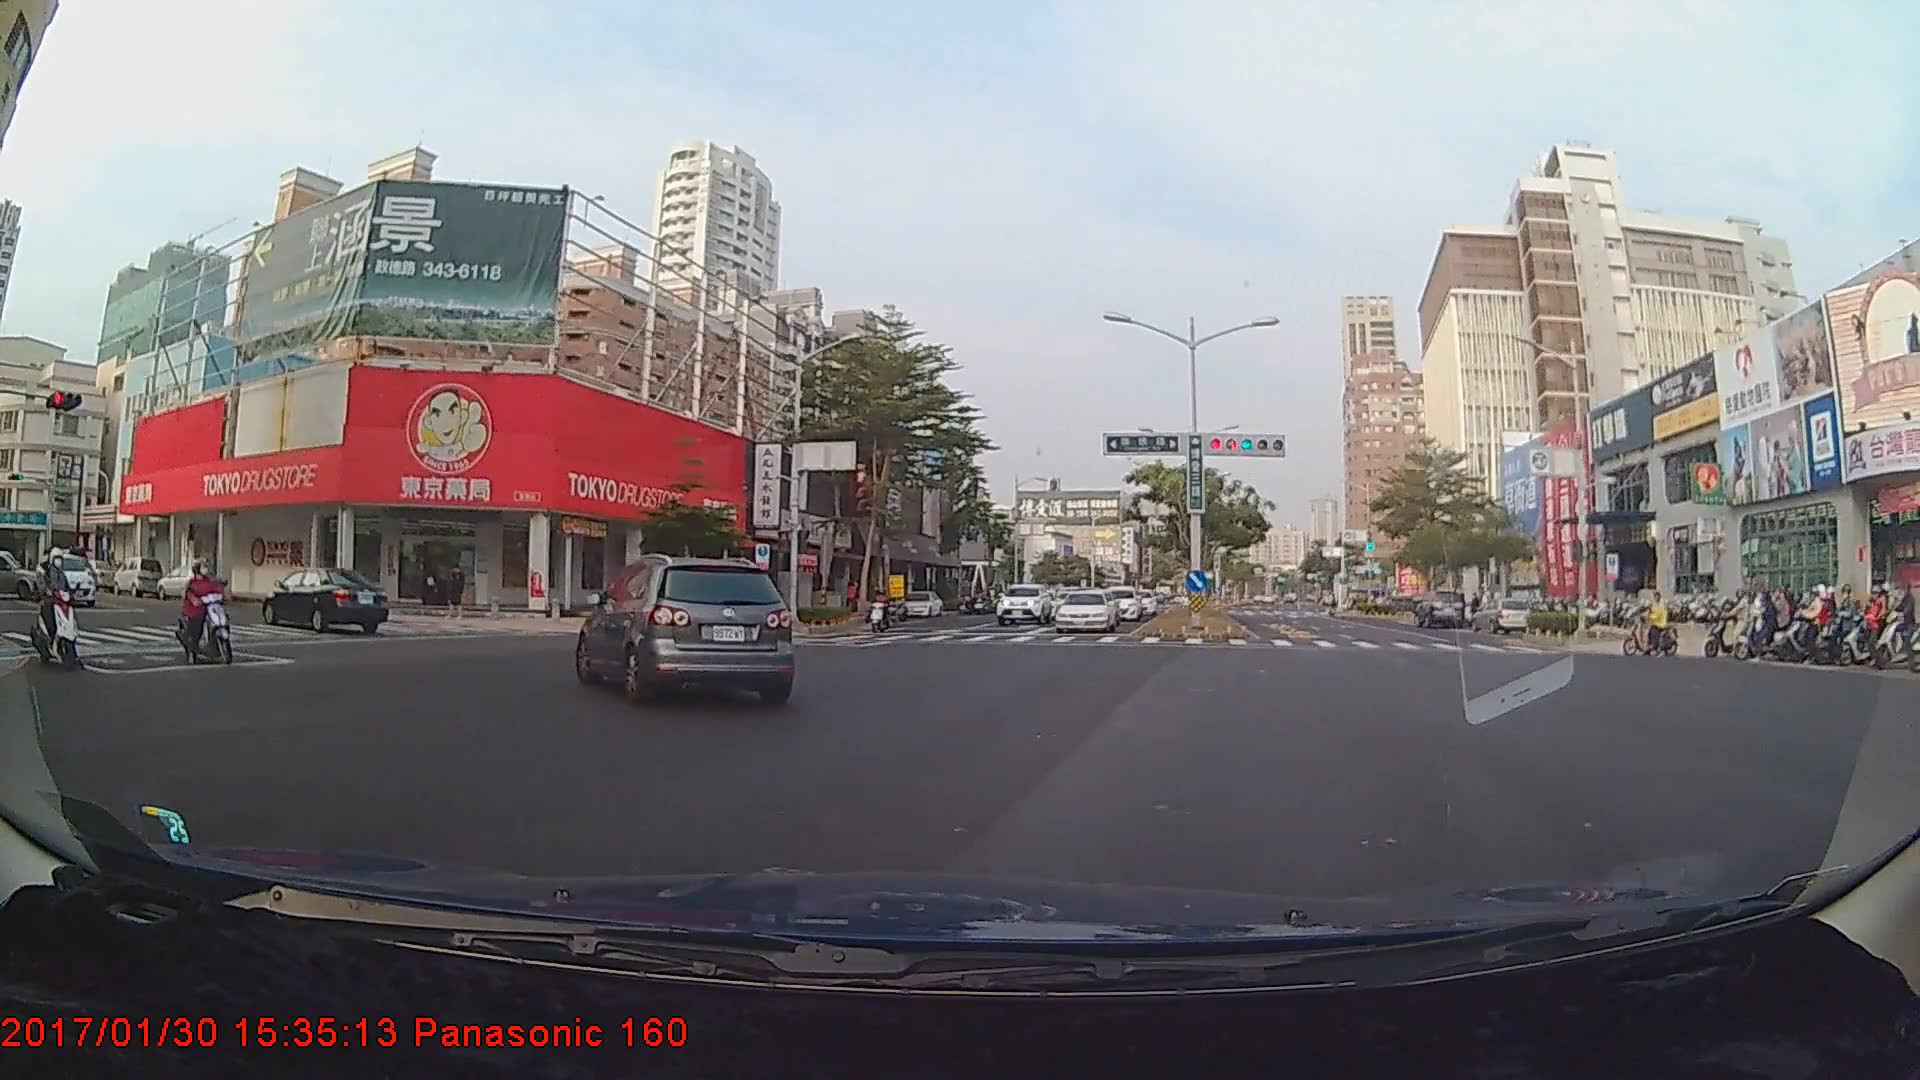rider: (169, 560, 233, 671), (25, 555, 85, 673), (1765, 586, 1834, 663), (1704, 599, 1781, 661), (1619, 585, 1679, 657), (1781, 588, 1830, 664), (1866, 584, 1909, 659), (866, 585, 888, 636)
vehicle: (580, 556, 792, 705), (265, 566, 388, 635), (35, 554, 96, 607), (1053, 589, 1117, 633), (995, 581, 1052, 625), (1411, 589, 1465, 626), (1094, 584, 1142, 621), (898, 590, 942, 617)
